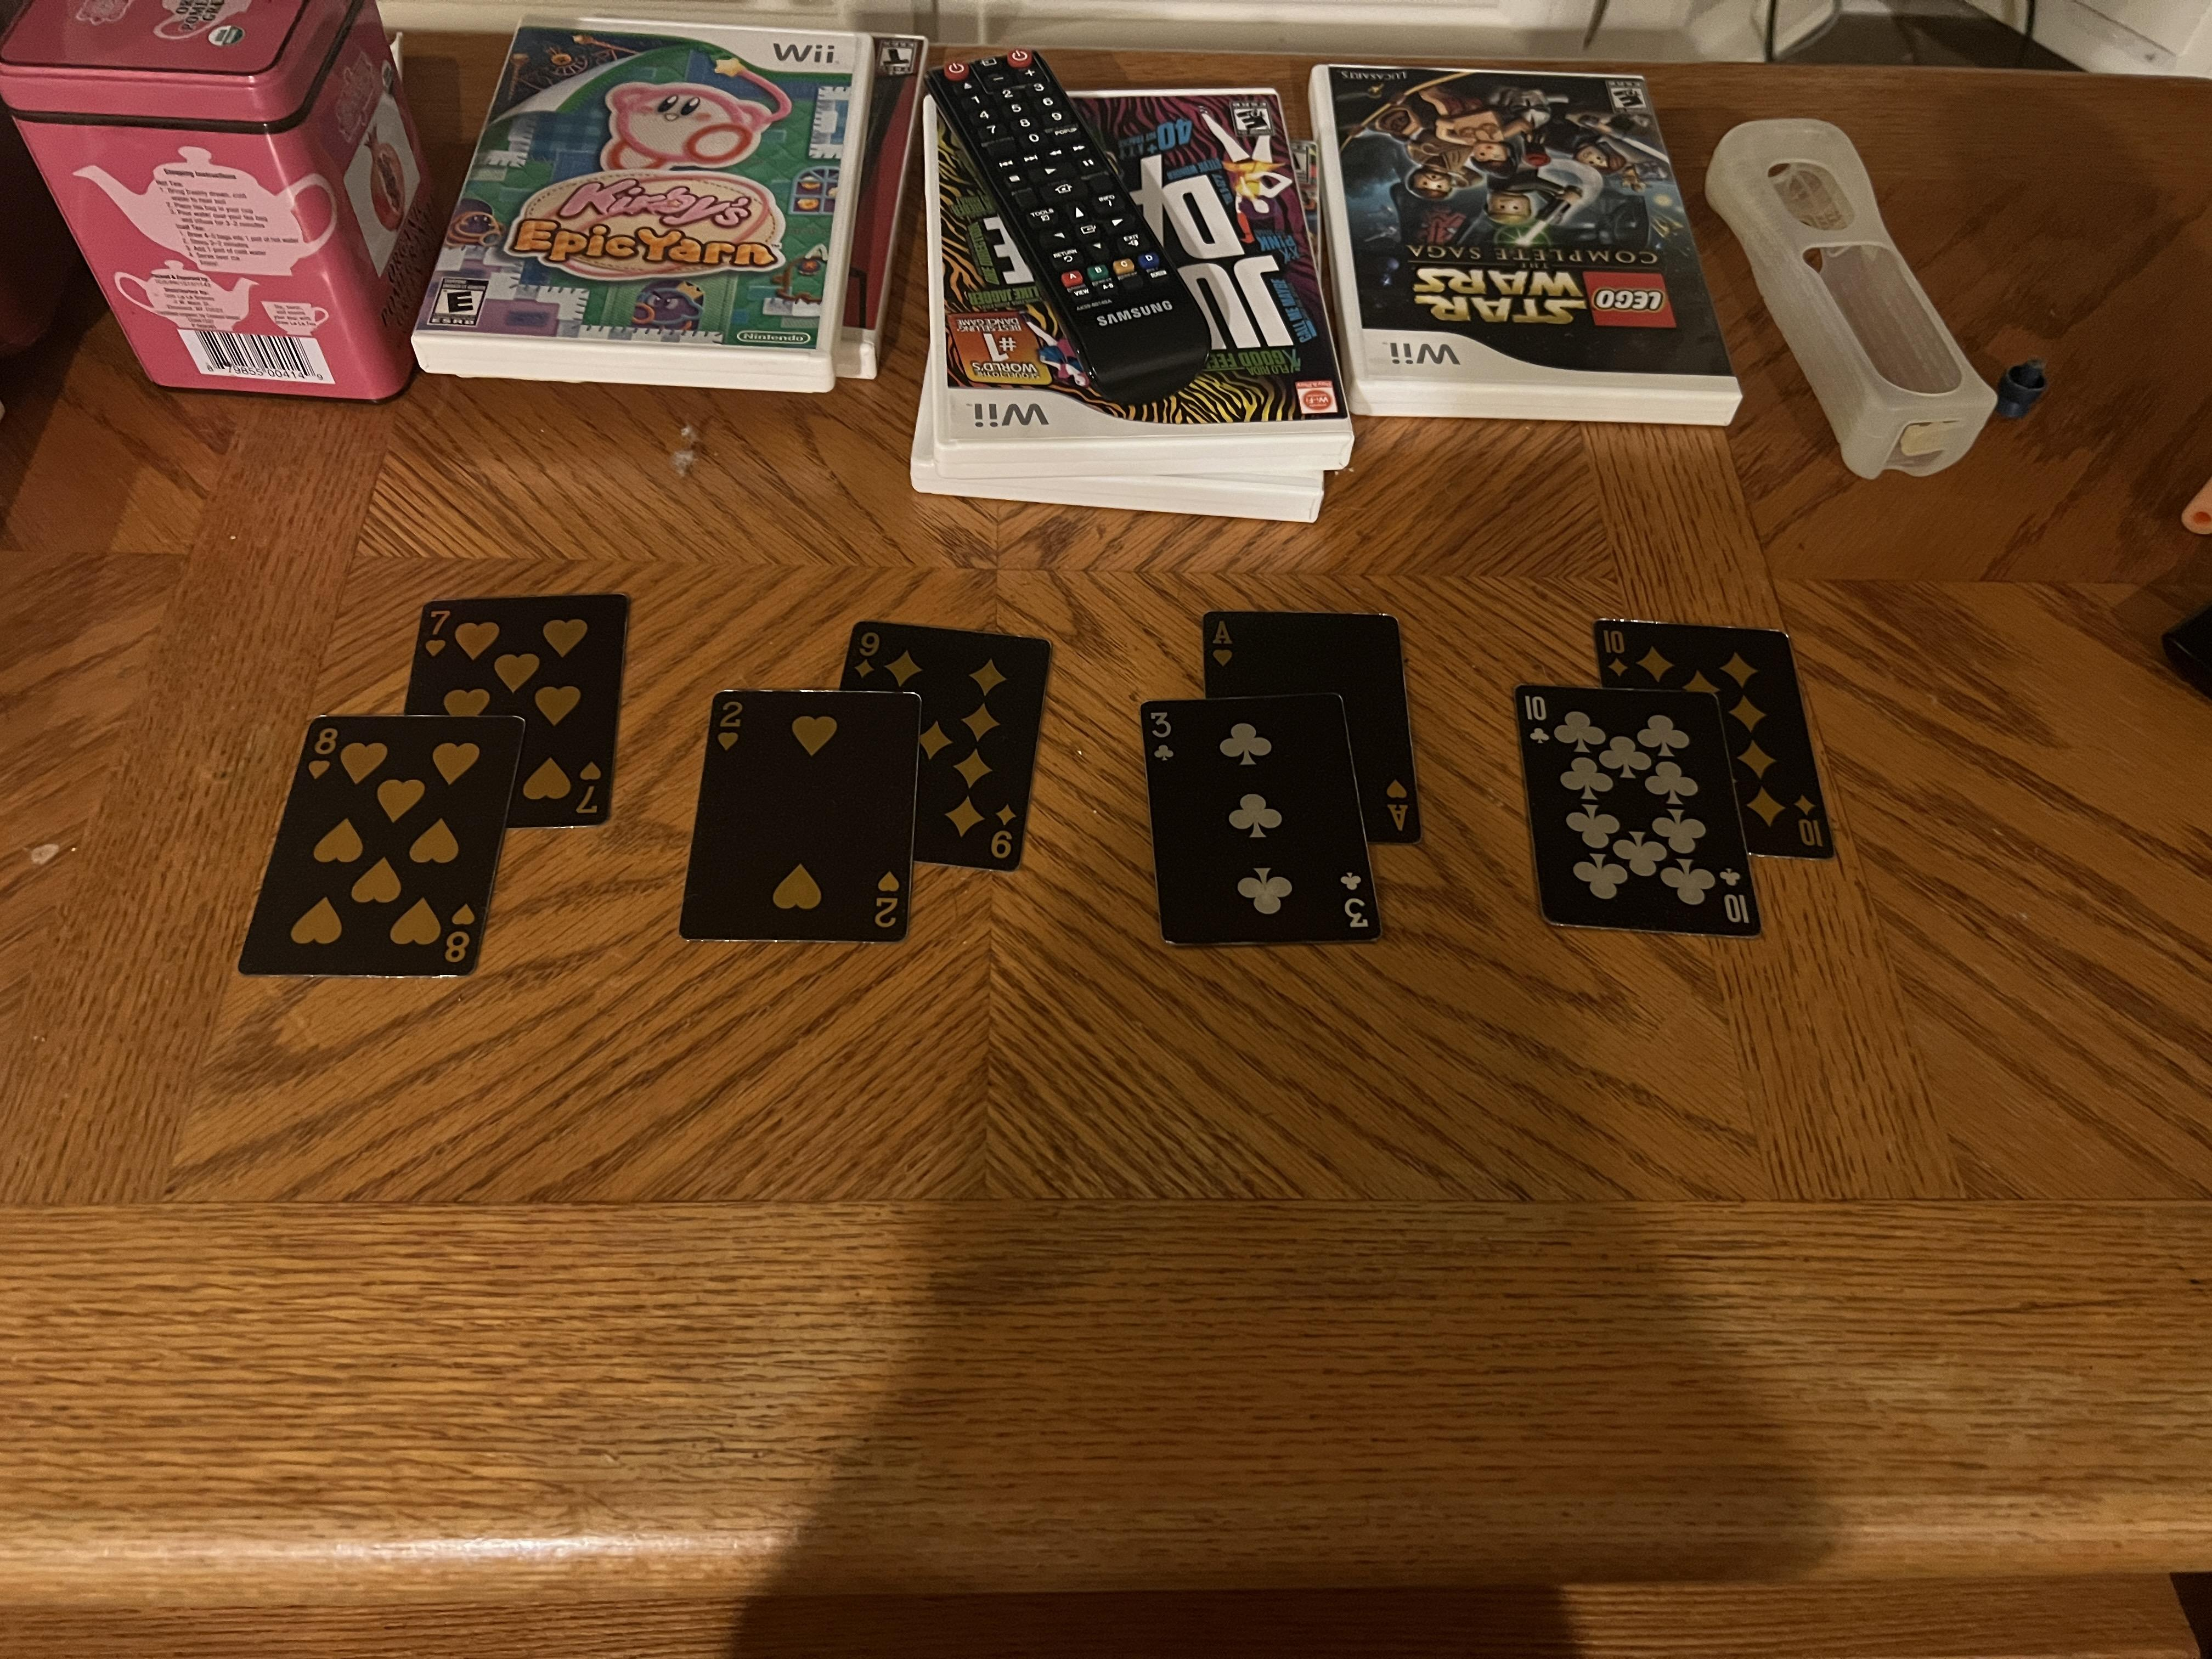10C: (1212, 1141, 1289, 1168), (974, 1290, 1057, 1312)
10D: (1083, 1347, 1157, 1368), (1312, 1202, 1376, 1220)
2H: (1212, 533, 1289, 558), (970, 655, 1047, 676)
3C: (1195, 859, 1273, 884), (972, 1002, 1055, 1025)
4H: (1320, 906, 1388, 929), (1108, 1042, 1176, 1056)
7H: (1116, 425, 1219, 458), (1341, 314, 1404, 340)
8H: (927, 328, 1017, 359), (1167, 225, 1254, 256)
9D: (1308, 633, 1381, 662), (1069, 742, 1148, 763)
